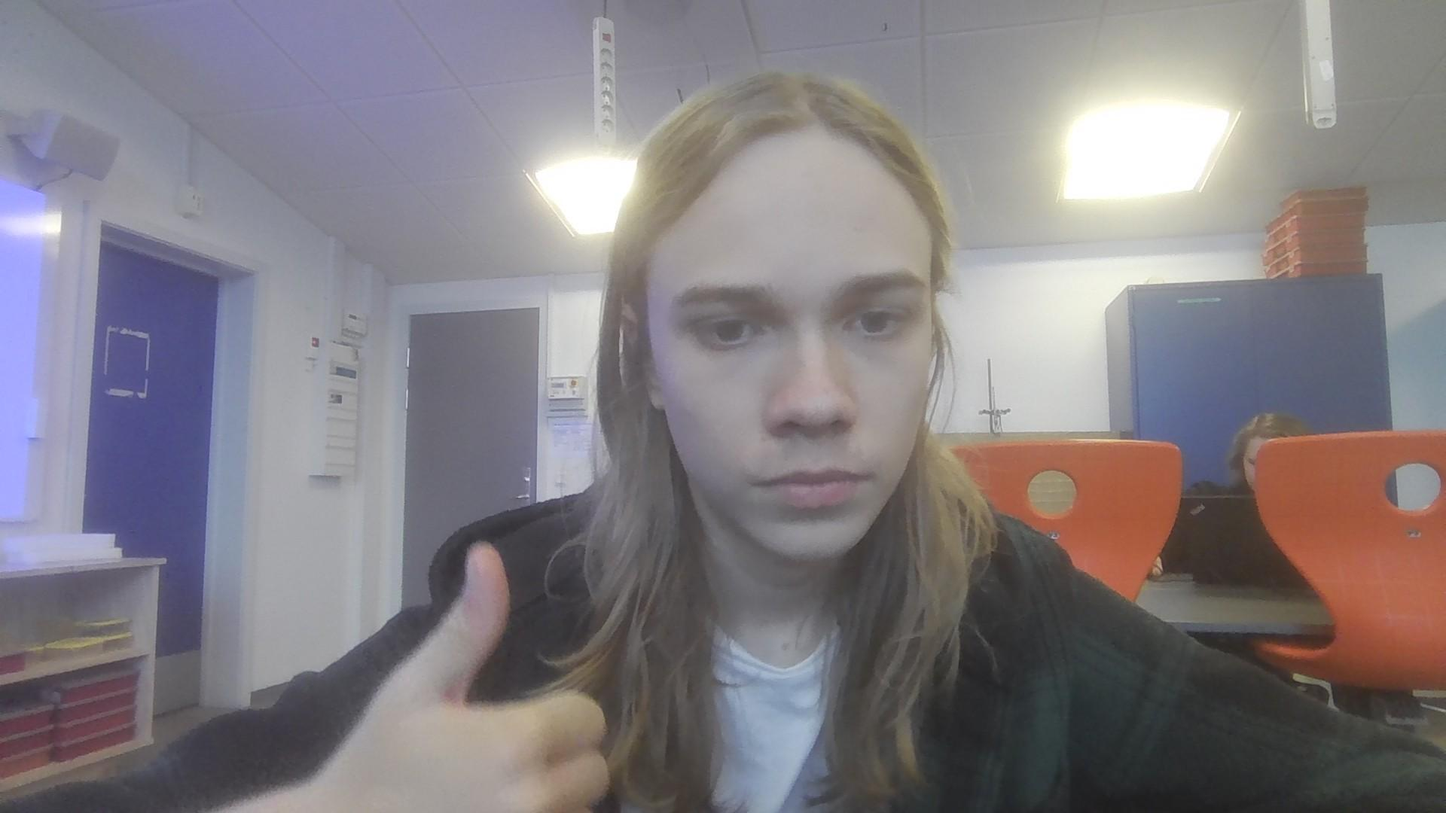thumbs up: (331, 535, 633, 813)
